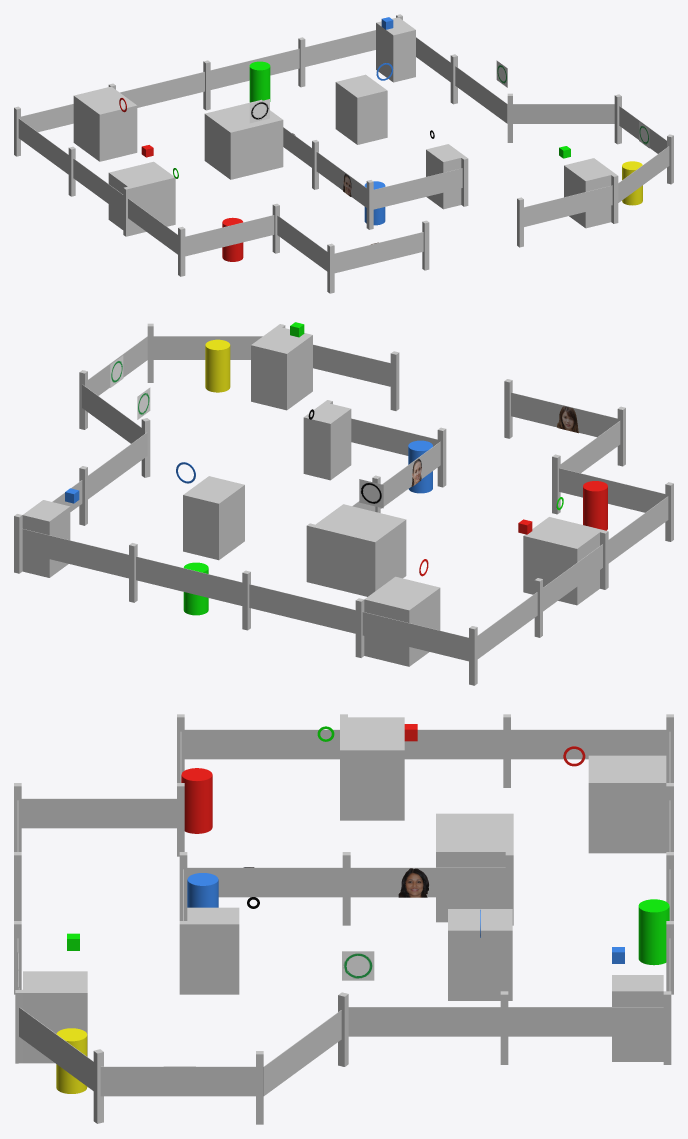
File: rins_task2.dae
3 views of the same model, one above another, from view 1: azimuth 30°, elevation 25°; view 2: azimuth 150°, elevation 25°; view 3: azimuth 270°, elevation 25° (orthographic). The views are drawn at different scales.
Parts seen in each view (by area): view 1: group_1 (×18), group_25, group_26, group_28, group_29, group_30, group_24, group_7, group_27, group_33, group_31, group_34 (+1 smaller); view 2: group_1 (×17), group_25, group_28, group_24, group_29, group_26, group_27, group_30, group_7, group_34, group_31, group_33 (+3 smaller); view 3: group_1 (×18), group_26, group_29, group_28, group_25, group_27, group_24, group_30, group_33, group_31, SketchUp (×2), group_34 (+1 smaller).
Part boxes in pixels (box(x1,y1,x2,y2)): group_1 (×18): box(18, 30, 669, 273); group_25: box(204, 101, 283, 179); group_26: box(73, 86, 137, 161); group_28: box(335, 74, 387, 144); group_29: box(108, 161, 175, 235); group_30: box(376, 17, 415, 82); group_24: box(564, 158, 615, 228); group_7: box(524, 185, 612, 226); group_27: box(426, 144, 465, 209); group_33: box(249, 61, 270, 102); group_31: box(222, 217, 243, 261); group_34: box(622, 161, 642, 205); group_1 (×17): box(22, 336, 668, 661); group_25: box(312, 504, 406, 596); group_28: box(183, 476, 244, 560); group_24: box(251, 326, 312, 410); group_29: box(523, 517, 602, 605); group_26: box(364, 576, 440, 666); group_27: box(303, 402, 351, 480); group_30: box(22, 500, 70, 577); group_7: box(313, 344, 390, 386); group_34: box(205, 339, 230, 392); group_31: box(583, 481, 607, 530); group_33: box(183, 562, 208, 615); group_1 (×18): box(19, 729, 671, 1123); group_26: box(588, 755, 666, 853); group_29: box(340, 717, 404, 820); group_28: box(448, 909, 512, 1000); group_25: box(436, 813, 513, 922); group_27: box(187, 907, 239, 994); group_24: box(23, 971, 87, 1063); group_30: box(612, 975, 663, 1061); group_33: box(638, 899, 669, 965); group_31: box(181, 768, 212, 833); SketchUp (×2): box(342, 868, 428, 980); group_34: box(56, 1028, 87, 1093).
Size of the model in its own units: 245 by 201 by 37.4.
Materials: 11 (5 with a texture image).
